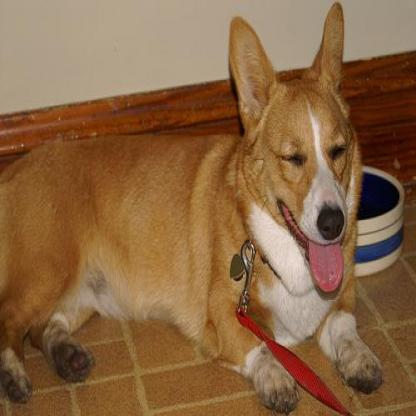Pembroke: (0, 2, 384, 413)
